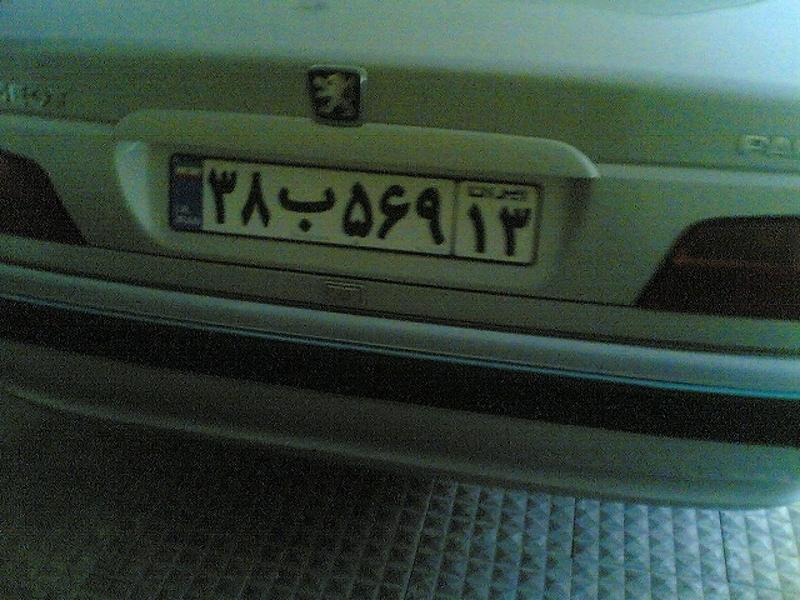Plate: (165, 139, 540, 269)
